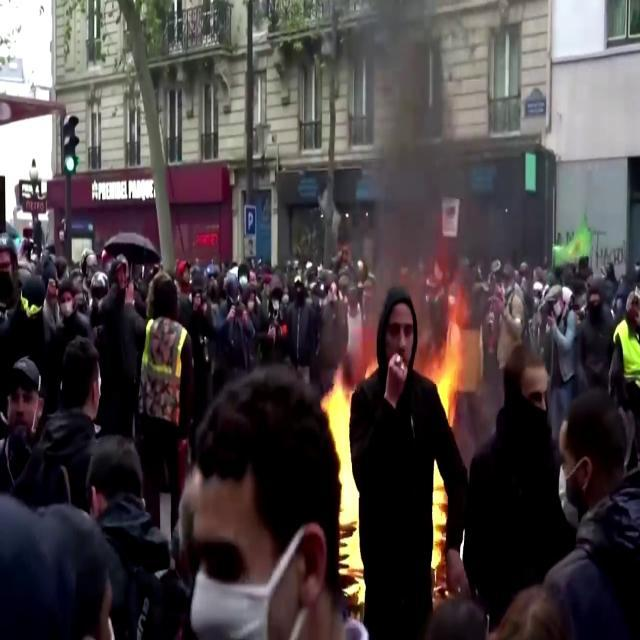Fire: (326, 368, 366, 604), (431, 294, 466, 426)
Smoke: (347, 1, 483, 302)
